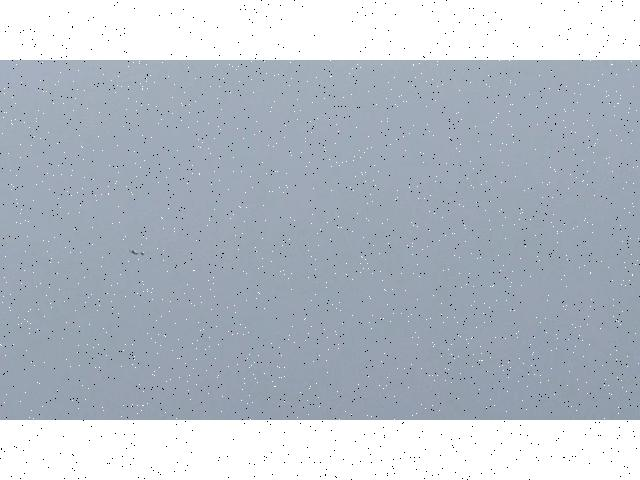Anti-Drone: (127, 246, 147, 258)
